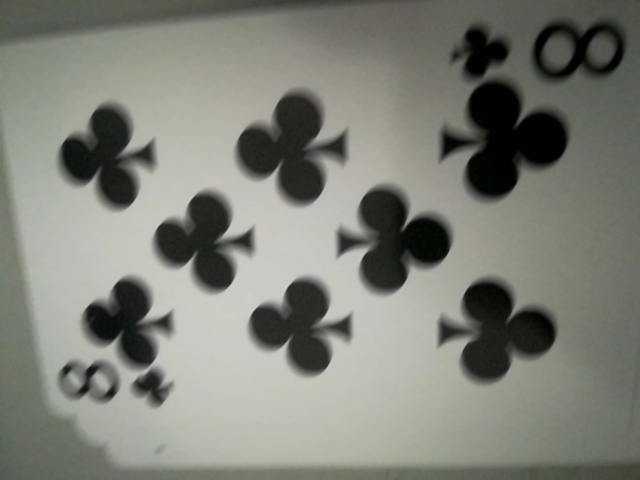mh 8: (452, 5, 631, 90), (51, 352, 174, 416)
